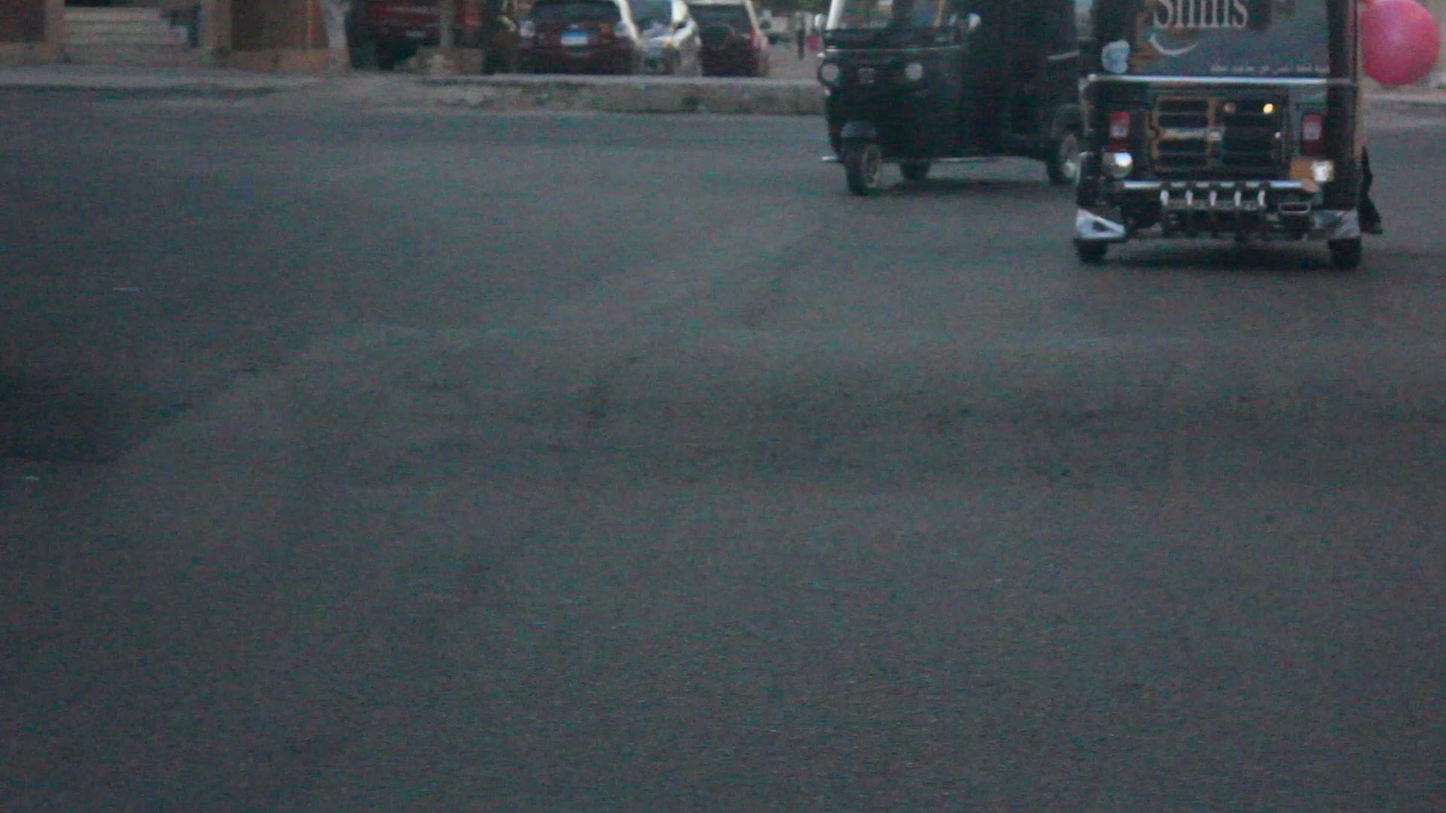Bump: (11, 301, 1440, 501)
